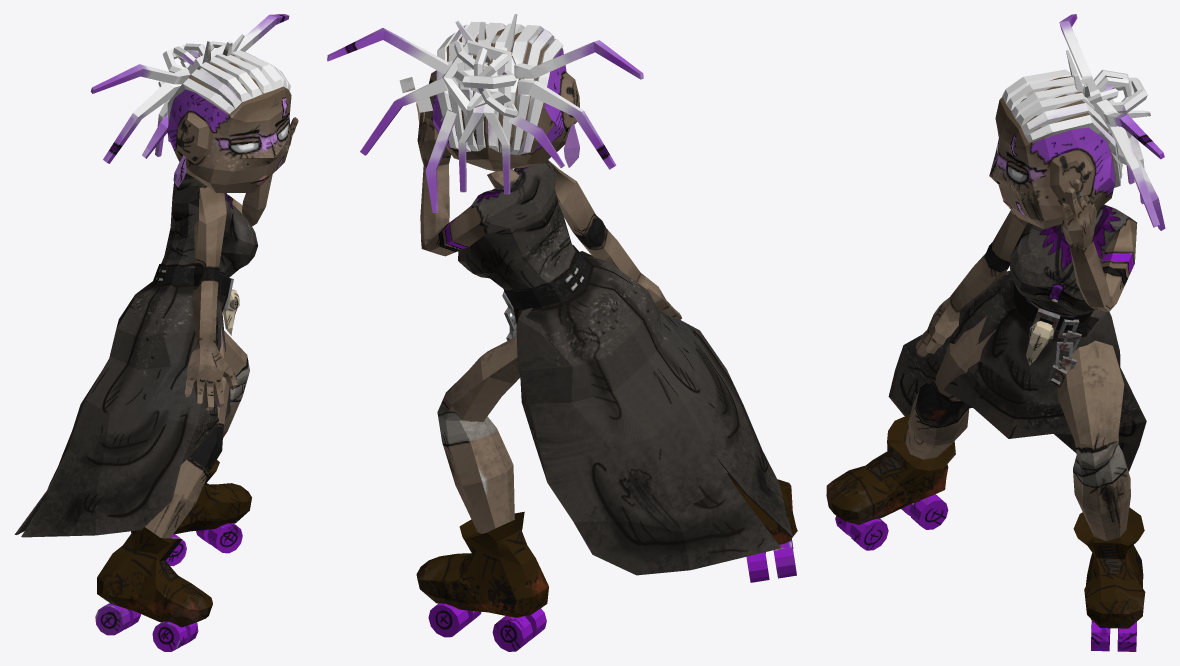
Rendered from bruja_000005.obj.
3 views of the same model, side by side, from view 1: azimuth 30°, elevation 25°; view 2: azimuth 150°, elevation 25°; view 3: azimuth 270°, elevation 25° (orthographic). The views are drawn at different scales.
Parts seen in each view (by area): view 1: Bruja_Plane.001; view 2: Bruja_Plane.001; view 3: Bruja_Plane.001.
Boxes of the visible parts, x1,y1,x2,y2 form: Bruja_Plane.001: (14, 14, 298, 651); Bruja_Plane.001: (327, 14, 797, 651); Bruja_Plane.001: (826, 14, 1165, 651).
Size of the model in its own units: 10.23 by 15.33 by 8.07.
